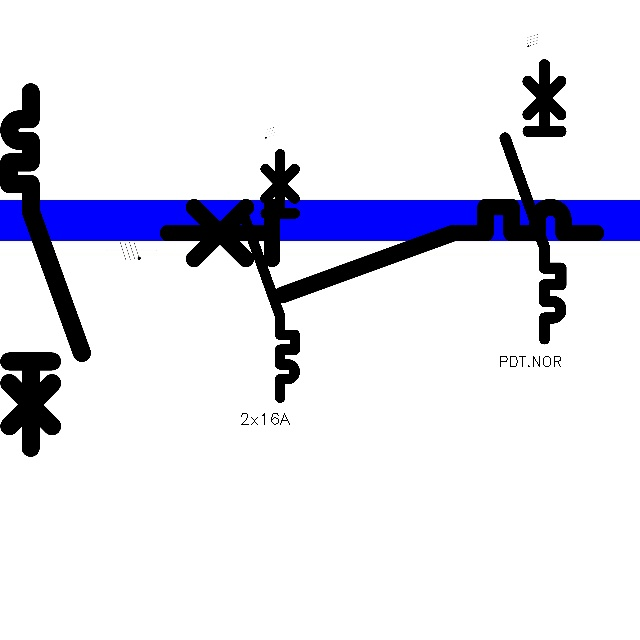interruptor_termomagnetico: (156, 196, 606, 306), (0, 83, 91, 457), (498, 57, 568, 345), (239, 148, 301, 404)
